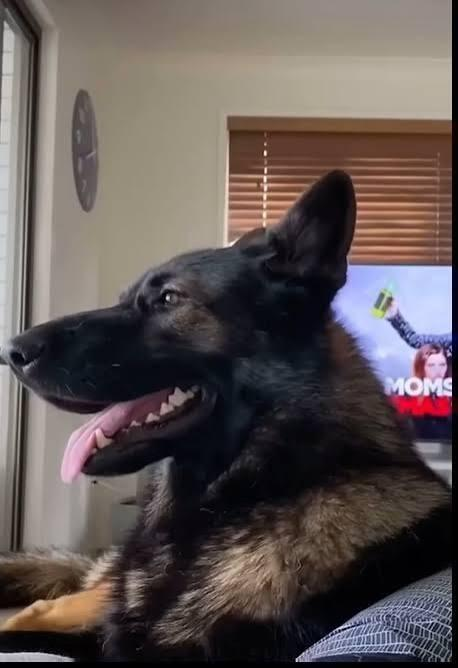adult_dog: (1, 165, 458, 654)
